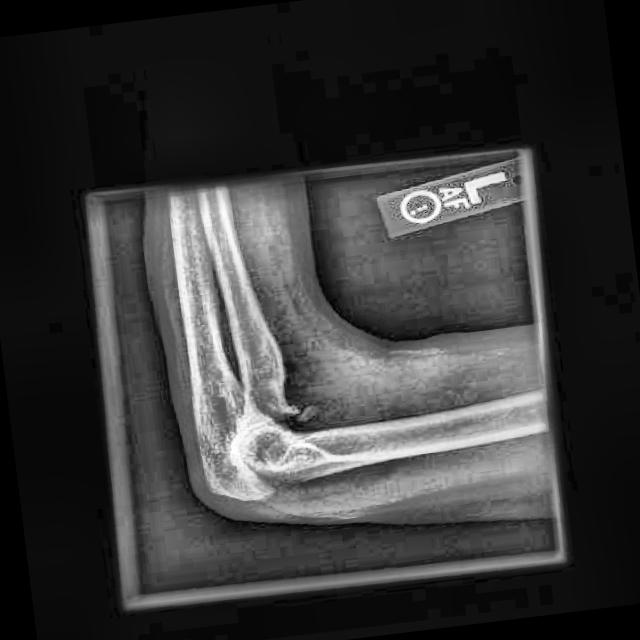elbow positive: (221, 446, 308, 513)
